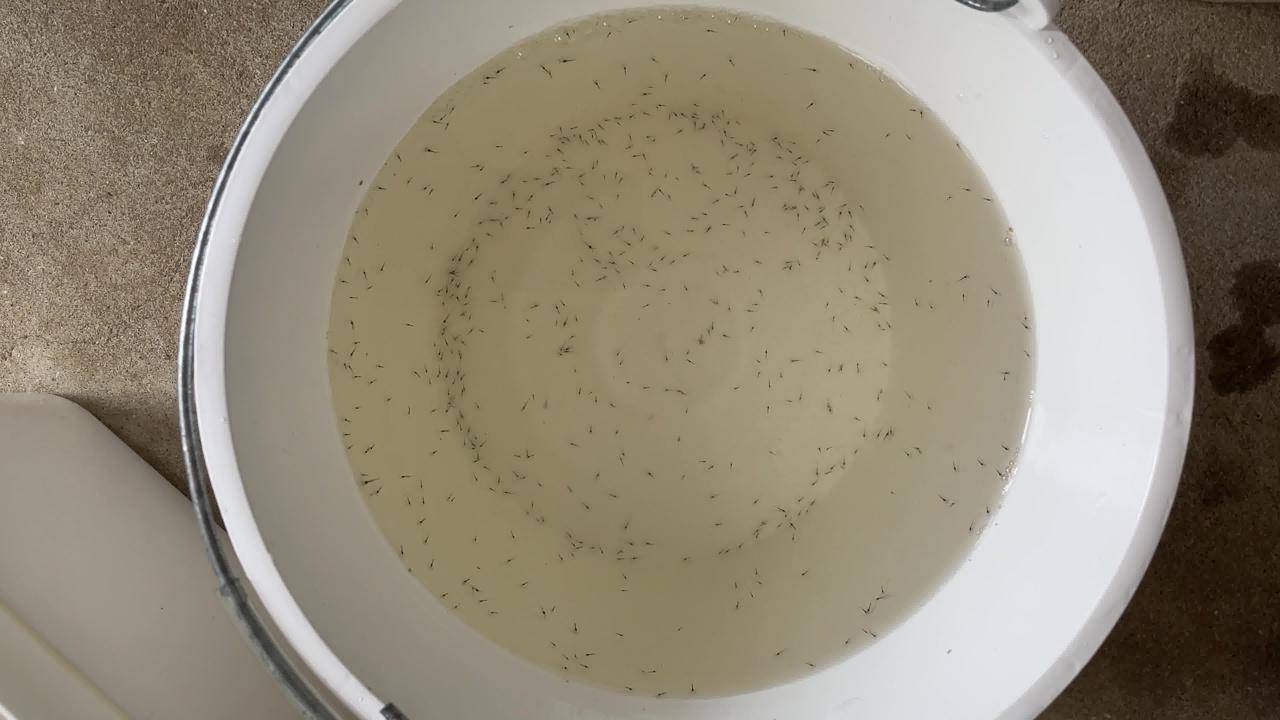shrimp: (551, 123, 563, 131), (543, 132, 555, 140), (489, 145, 501, 153), (517, 148, 529, 156), (566, 124, 578, 132), (561, 132, 573, 140), (554, 137, 566, 145), (551, 144, 563, 152), (540, 151, 552, 159), (558, 157, 570, 165), (564, 165, 576, 173), (571, 131, 583, 139), (578, 137, 590, 145), (588, 138, 600, 146), (593, 138, 605, 146), (582, 124, 594, 132), (585, 130, 597, 138), (590, 123, 602, 131), (597, 115, 609, 123), (608, 119, 620, 127), (610, 114, 622, 122), (623, 112, 635, 120), (625, 101, 637, 109), (638, 90, 650, 98), (642, 82, 654, 90), (637, 111, 649, 119), (650, 102, 662, 110), (661, 109, 673, 117), (666, 109, 678, 117), (672, 128, 684, 136), (672, 111, 684, 119), (685, 99, 697, 107), (686, 107, 698, 115), (686, 111, 698, 119), (687, 116, 699, 124), (696, 121, 708, 129), (704, 118, 716, 126), (705, 112, 717, 120), (711, 114, 723, 122), (713, 107, 725, 115), (720, 118, 732, 126), (727, 118, 739, 126), (718, 128, 730, 136), (715, 135, 727, 143), (724, 132, 736, 140), (733, 141, 745, 149), (725, 152, 737, 160), (745, 139, 757, 147), (740, 143, 752, 151), (744, 146, 756, 154), (761, 131, 773, 139), (764, 134, 776, 142), (772, 138, 784, 146), (785, 136, 797, 144), (780, 147, 792, 155), (771, 151, 783, 159), (789, 153, 801, 161), (784, 159, 796, 167), (795, 156, 807, 164), (784, 167, 796, 175), (790, 167, 802, 175), (786, 176, 798, 184), (763, 172, 775, 180), (767, 182, 779, 190), (742, 158, 754, 166), (732, 164, 744, 172), (724, 168, 736, 176), (741, 172, 753, 180), (727, 183, 739, 191), (721, 189, 733, 197), (731, 202, 743, 210), (735, 207, 747, 215), (747, 198, 759, 206), (792, 185, 804, 193), (805, 191, 817, 199), (810, 190, 822, 198), (818, 181, 830, 189), (825, 178, 837, 186), (826, 185, 838, 193), (812, 137, 824, 145), (818, 130, 830, 138), (824, 126, 836, 134), (801, 101, 813, 109), (805, 65, 817, 73), (775, 199, 787, 207), (778, 205, 790, 213), (787, 204, 799, 212), (791, 212, 803, 220), (800, 204, 812, 212), (811, 202, 823, 210), (815, 205, 827, 213), (795, 227, 807, 235), (810, 218, 822, 226), (814, 223, 826, 231), (815, 216, 827, 224), (832, 210, 844, 218), (834, 201, 846, 209), (844, 210, 856, 218), (855, 204, 867, 212), (843, 222, 855, 230), (837, 230, 849, 238), (842, 231, 854, 239), (831, 239, 843, 247), (832, 243, 844, 251), (805, 239, 817, 247), (810, 251, 822, 259), (811, 234, 823, 242), (816, 240, 828, 248), (819, 237, 831, 245), (782, 257, 794, 265), (774, 264, 786, 272), (783, 263, 795, 271), (790, 259, 802, 267), (760, 229, 772, 237), (751, 257, 763, 265), (687, 160, 699, 168), (690, 167, 702, 175), (698, 182, 710, 190), (706, 196, 718, 204), (697, 208, 709, 216), (688, 213, 700, 221), (683, 224, 695, 232), (703, 226, 715, 234), (717, 221, 729, 229), (660, 229, 672, 237), (645, 188, 657, 196), (649, 187, 661, 195), (660, 193, 672, 201), (667, 175, 679, 183), (658, 170, 670, 178), (644, 172, 656, 180), (644, 164, 656, 172), (636, 151, 648, 159), (628, 151, 640, 159), (620, 142, 632, 150), (624, 133, 636, 141), (642, 132, 654, 140), (647, 135, 659, 143), (590, 80, 602, 88), (619, 68, 631, 76), (648, 55, 660, 63), (659, 73, 671, 81), (696, 73, 708, 81), (723, 56, 735, 64), (606, 168, 618, 176), (612, 174, 624, 182), (610, 193, 622, 201), (591, 170, 603, 178), (590, 158, 602, 166), (586, 161, 598, 169), (598, 170, 610, 178), (574, 170, 586, 178), (574, 177, 586, 185), (547, 164, 559, 172), (542, 177, 554, 185), (532, 174, 544, 182), (517, 179, 529, 187), (500, 174, 512, 182), (505, 187, 517, 195), (470, 193, 482, 201), (450, 208, 462, 216), (423, 242, 435, 250), (422, 277, 434, 285), (405, 320, 417, 328), (409, 370, 421, 378), (418, 365, 430, 373), (420, 376, 432, 384), (401, 407, 413, 415), (488, 198, 500, 206), (510, 204, 522, 212), (524, 192, 536, 200), (523, 208, 535, 216), (523, 223, 535, 231), (532, 214, 544, 222), (542, 205, 554, 213), (542, 210, 554, 218), (498, 211, 510, 219), (495, 219, 507, 227), (486, 214, 498, 222), (474, 218, 486, 226), (479, 230, 491, 238), (467, 237, 479, 245), (472, 244, 484, 252), (462, 245, 474, 253), (446, 254, 458, 262), (453, 253, 465, 261), (465, 255, 477, 263), (485, 273, 497, 281), (485, 297, 497, 305), (495, 293, 507, 301), (448, 266, 460, 274), (445, 274, 457, 282), (453, 280, 465, 288), (464, 284, 476, 292), (462, 289, 474, 297), (433, 284, 445, 292), (438, 283, 450, 291), (444, 291, 456, 299), (448, 292, 460, 300), (455, 297, 467, 305), (435, 296, 447, 304), (455, 309, 467, 317), (462, 312, 474, 320), (465, 327, 477, 335), (469, 325, 481, 333), (440, 312, 452, 320), (437, 322, 449, 330), (441, 333, 453, 341), (426, 343, 438, 351), (449, 333, 461, 341), (430, 347, 442, 355), (434, 350, 446, 358), (455, 350, 467, 358), (457, 337, 469, 345), (431, 369, 443, 377), (438, 371, 450, 379), (451, 368, 463, 376), (445, 376, 457, 384), (456, 374, 468, 382), (426, 405, 438, 413), (441, 386, 453, 394), (453, 388, 465, 396), (457, 383, 469, 391), (443, 397, 455, 405), (442, 404, 454, 412), (453, 412, 465, 420), (469, 403, 481, 411), (452, 424, 464, 432), (439, 429, 451, 437), (424, 449, 436, 457), (461, 426, 473, 434), (454, 438, 466, 446), (463, 436, 475, 444), (464, 442, 476, 450), (475, 438, 487, 446), (472, 448, 484, 456), (470, 456, 482, 464), (469, 475, 481, 483), (478, 462, 490, 470), (584, 192, 596, 200), (595, 201, 607, 209), (567, 211, 579, 219), (580, 214, 592, 222), (589, 214, 601, 222), (583, 244, 595, 252), (606, 229, 618, 237), (614, 226, 626, 234), (625, 226, 637, 234), (636, 234, 648, 242), (620, 238, 632, 246), (617, 249, 629, 257), (622, 258, 634, 266), (604, 247, 616, 255), (589, 255, 601, 263), (605, 259, 617, 267), (598, 263, 610, 271), (609, 266, 621, 274), (594, 272, 606, 280), (617, 284, 629, 292), (570, 281, 582, 289), (566, 268, 578, 276), (573, 258, 585, 266), (644, 257, 656, 265), (648, 266, 660, 274), (638, 281, 650, 289), (637, 303, 649, 311), (657, 288, 669, 296), (663, 258, 675, 266), (655, 253, 667, 261), (680, 248, 692, 256), (679, 284, 691, 292), (715, 261, 727, 269), (716, 267, 728, 275), (729, 267, 741, 275), (706, 298, 718, 306), (725, 303, 737, 311), (707, 321, 719, 329), (703, 328, 715, 336), (694, 337, 706, 345), (680, 350, 692, 358), (681, 358, 693, 366), (656, 354, 668, 362), (717, 333, 729, 341), (745, 324, 757, 332), (743, 306, 755, 314), (747, 299, 759, 307), (754, 287, 766, 295), (865, 242, 877, 250), (844, 264, 856, 272), (858, 260, 870, 268), (866, 260, 878, 268), (881, 252, 893, 260), (863, 274, 875, 282), (836, 288, 848, 296), (819, 300, 831, 308), (827, 313, 839, 321), (839, 326, 851, 334), (849, 294, 861, 302), (877, 290, 889, 298), (879, 299, 891, 307), (872, 302, 884, 310), (868, 304, 880, 312), (872, 320, 884, 328), (876, 325, 888, 333), (880, 321, 892, 329), (877, 360, 889, 368), (851, 363, 863, 371), (833, 362, 845, 370), (823, 366, 835, 374), (814, 347, 826, 355), (790, 355, 802, 363), (758, 350, 770, 358), (752, 356, 764, 364), (752, 371, 764, 379), (730, 384, 742, 392), (763, 380, 775, 388), (774, 372, 786, 380), (760, 405, 772, 413), (782, 398, 794, 406), (793, 393, 805, 401), (824, 404, 836, 412), (848, 416, 860, 424), (874, 386, 886, 394), (872, 391, 884, 399), (904, 389, 916, 397), (921, 404, 933, 412), (856, 430, 868, 438), (869, 429, 881, 437), (877, 432, 889, 440), (886, 426, 898, 434), (897, 451, 909, 459), (908, 446, 920, 454), (813, 442, 825, 450), (826, 442, 838, 450), (851, 443, 863, 451), (838, 455, 850, 463), (836, 463, 848, 471), (827, 459, 839, 467), (823, 467, 835, 475), (811, 465, 823, 473), (810, 478, 822, 486), (527, 303, 539, 311), (521, 316, 533, 324), (523, 332, 535, 340), (552, 304, 564, 312), (556, 295, 568, 303), (549, 318, 561, 326), (558, 319, 570, 327), (571, 315, 583, 323), (567, 330, 579, 338), (560, 344, 572, 352), (559, 350, 571, 358), (552, 351, 564, 359), (567, 366, 579, 374), (609, 349, 621, 357), (613, 357, 625, 365), (620, 376, 632, 384), (638, 385, 650, 393), (659, 385, 671, 393), (675, 388, 687, 396), (572, 386, 584, 394), (584, 386, 596, 394), (589, 395, 601, 403), (603, 402, 615, 410), (681, 408, 693, 416), (671, 432, 683, 440), (517, 404, 529, 412), (524, 392, 536, 400), (584, 426, 596, 434), (563, 439, 575, 447), (612, 425, 624, 433), (614, 447, 626, 455), (613, 454, 625, 462), (588, 473, 600, 481), (603, 491, 615, 499), (580, 502, 592, 510), (560, 484, 572, 492), (643, 471, 655, 479), (509, 451, 521, 459), (516, 447, 528, 455), (523, 452, 535, 460), (506, 471, 518, 479), (515, 475, 527, 483), (531, 483, 543, 491), (498, 488, 510, 496), (485, 487, 497, 495), (494, 475, 506, 483), (526, 498, 538, 506), (529, 515, 541, 523), (538, 512, 550, 520), (561, 529, 573, 537), (552, 553, 564, 561), (564, 551, 576, 559), (566, 539, 578, 547), (572, 543, 584, 551), (572, 535, 584, 543), (585, 543, 597, 551), (594, 548, 606, 556), (617, 588, 629, 596), (616, 571, 628, 579), (614, 556, 626, 564), (612, 547, 624, 555), (628, 554, 640, 562), (622, 539, 634, 547), (619, 520, 631, 528), (641, 541, 653, 549), (679, 555, 691, 563), (712, 520, 724, 528), (706, 492, 718, 500), (704, 463, 716, 471), (694, 456, 706, 464), (673, 473, 685, 481), (725, 462, 737, 470), (764, 447, 776, 455), (750, 498, 762, 506), (710, 551, 722, 559), (720, 549, 732, 557), (730, 604, 742, 612), (726, 580, 738, 588), (744, 592, 756, 600), (753, 579, 765, 587), (750, 569, 762, 577), (731, 539, 743, 547), (746, 526, 758, 534), (751, 530, 763, 538), (758, 519, 770, 527), (797, 572, 809, 580), (788, 535, 800, 543), (772, 522, 784, 530), (785, 520, 797, 528), (781, 516, 793, 524), (774, 504, 786, 512), (793, 495, 805, 503), (793, 508, 805, 516), (804, 499, 816, 507), (467, 159, 479, 167), (476, 163, 488, 171), (419, 181, 431, 189), (423, 188, 435, 196), (401, 179, 413, 187), (392, 153, 404, 161), (427, 147, 439, 155), (440, 123, 452, 131), (430, 117, 442, 125), (436, 112, 448, 120), (444, 106, 456, 114), (477, 80, 489, 88), (481, 74, 493, 82), (492, 69, 504, 77), (537, 65, 549, 73), (558, 57, 570, 65), (558, 29, 570, 37), (568, 26, 580, 34), (603, 30, 615, 38), (622, 17, 634, 25), (702, 28, 714, 36), (777, 28, 789, 36), (728, 15, 740, 23), (680, 14, 692, 22), (844, 61, 856, 69), (878, 131, 890, 139), (901, 135, 913, 143), (906, 104, 918, 112), (916, 111, 928, 119), (953, 140, 965, 148), (944, 197, 956, 205), (960, 185, 972, 193), (982, 195, 994, 203), (910, 295, 922, 303), (925, 302, 937, 310), (958, 274, 970, 282), (957, 292, 969, 300), (984, 297, 996, 305), (989, 285, 1001, 293), (1021, 323, 1033, 331), (1021, 350, 1033, 358), (997, 367, 1009, 375), (997, 373, 1009, 381), (946, 461, 958, 469), (972, 458, 984, 466), (1002, 443, 1014, 451), (996, 469, 1008, 477), (937, 495, 949, 503), (946, 499, 958, 507), (964, 524, 976, 532), (982, 506, 994, 514), (875, 581, 887, 589), (873, 593, 885, 601), (864, 601, 876, 609), (859, 604, 871, 612), (857, 626, 869, 634), (869, 630, 881, 638), (841, 636, 853, 644), (804, 661, 816, 669), (775, 649, 787, 657), (685, 684, 697, 692), (656, 689, 668, 697), (623, 686, 635, 694), (646, 667, 658, 675), (613, 628, 625, 636), (587, 650, 599, 658), (577, 661, 589, 669), (558, 651, 570, 659), (568, 650, 580, 658), (568, 620, 580, 628), (547, 643, 559, 651), (545, 602, 557, 610), (537, 607, 549, 615), (518, 578, 530, 586), (502, 558, 514, 566), (508, 531, 520, 539), (486, 608, 498, 616), (475, 596, 487, 604), (468, 585, 480, 593), (460, 575, 472, 583), (437, 591, 449, 599), (449, 605, 461, 613), (469, 534, 481, 542), (424, 558, 436, 566), (396, 549, 408, 557), (418, 535, 430, 543), (416, 518, 428, 526), (440, 491, 452, 499), (445, 495, 457, 503), (415, 496, 427, 504), (401, 496, 413, 504), (417, 478, 429, 486), (401, 473, 413, 481), (370, 486, 382, 494), (361, 479, 373, 487), (355, 469, 367, 477), (341, 441, 353, 449), (340, 430, 352, 438), (340, 417, 352, 425), (350, 404, 362, 412), (360, 445, 372, 453), (383, 394, 395, 402), (363, 378, 375, 386), (350, 371, 362, 379), (339, 359, 351, 367), (343, 362, 355, 370), (324, 346, 336, 354), (347, 349, 359, 357), (372, 364, 384, 372), (350, 338, 362, 346), (344, 320, 356, 328), (344, 296, 356, 304), (336, 277, 348, 285), (338, 255, 350, 263), (356, 268, 368, 276), (360, 284, 372, 292), (373, 262, 385, 270), (349, 237, 361, 245), (360, 209, 372, 217), (374, 184, 386, 192), (674, 624, 686, 632), (475, 562, 487, 570), (885, 488, 897, 496), (926, 273, 938, 281), (736, 229, 748, 237)
